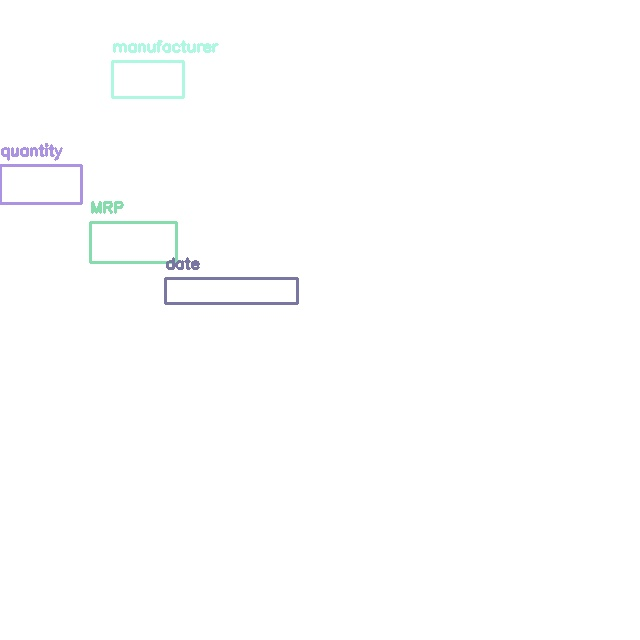MRP: (90, 222, 176, 262)
date: (165, 278, 297, 303)
manufacturer: (112, 61, 183, 97)
quantity: (0, 165, 81, 203)
